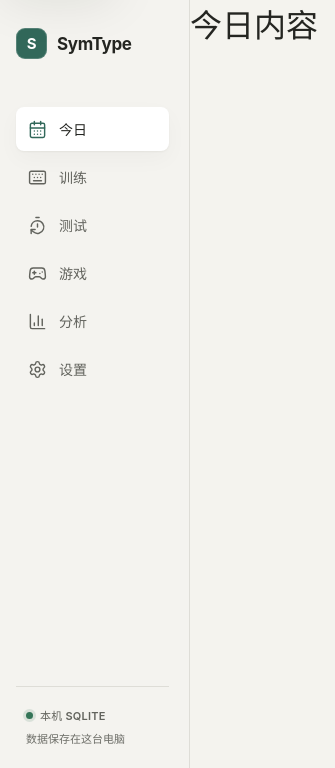
Test: AppShell keyboard navigation › offers a skip link and focuses main content after route changes
This screenshot has width=335, height=768.
Click the link "分析".
click(58, 321)  # box [28, 312, 87, 330]
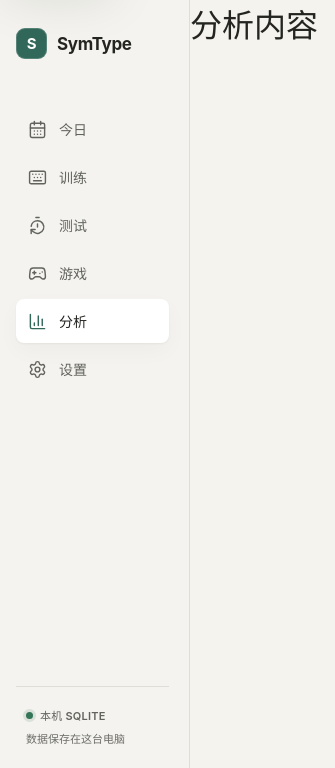
Check: the heading "分析内容" is shown, box [190, 6, 318, 45]
